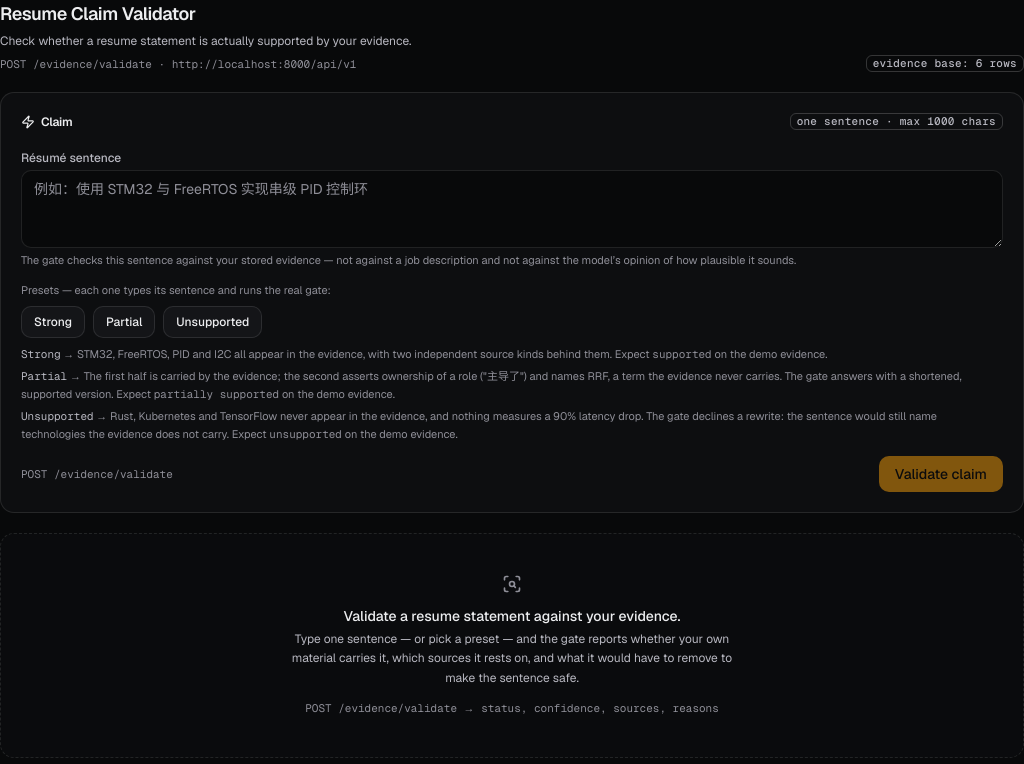
it: the claim validator page › explains what confidence is, in the exact sentence, on hover
Type "使用 STM32 与 FreeRTOS 实现串级 PID 控制环" into the text box labelled "Résumé sentence" at (512,209), box [21,170,1003,248]
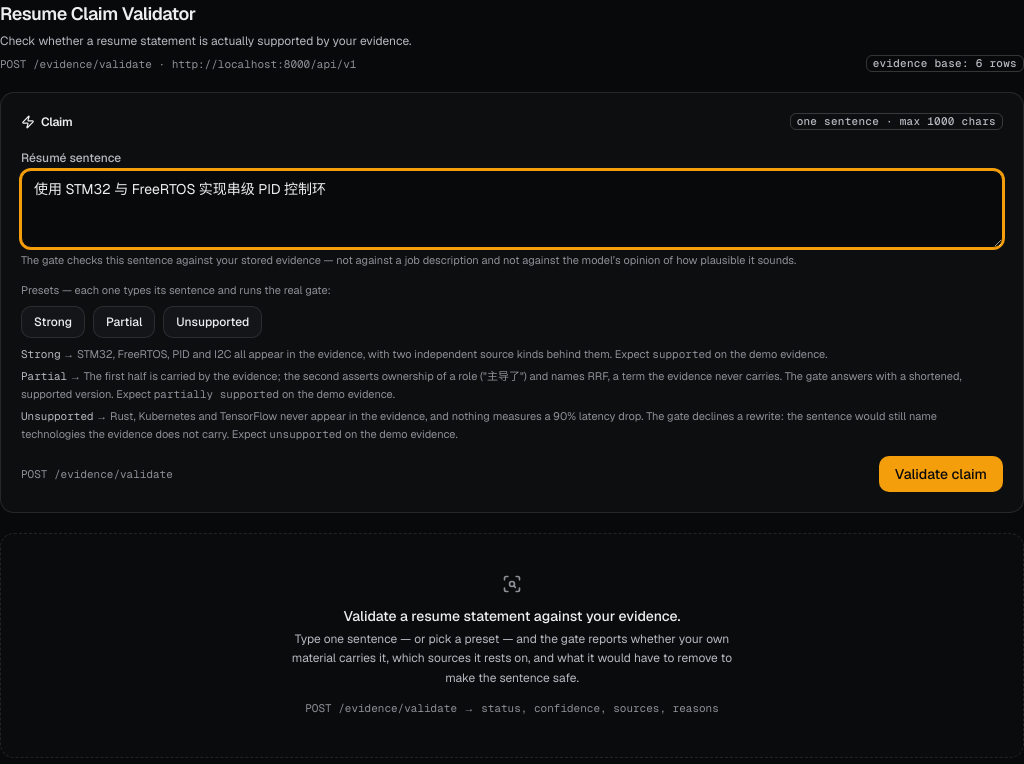
Click the button with test id "validate-claim" at (941,474), box [879,456,1003,492]
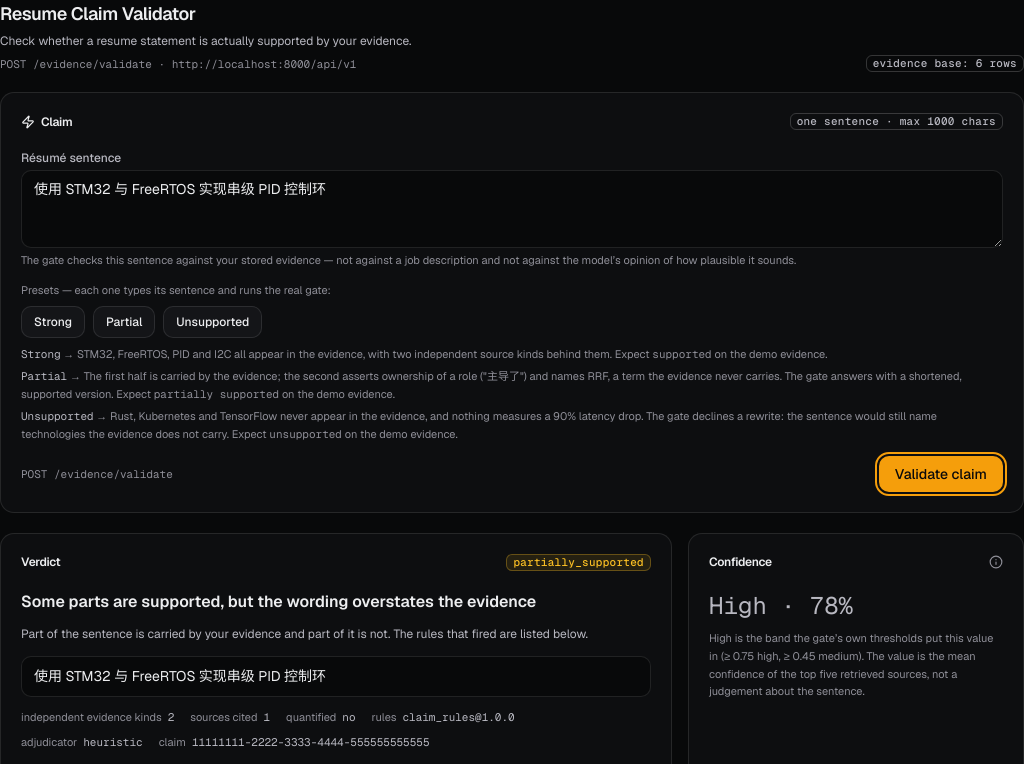
Hover over the button named "What confidence means" at (996,562), box [989,555,1003,569]
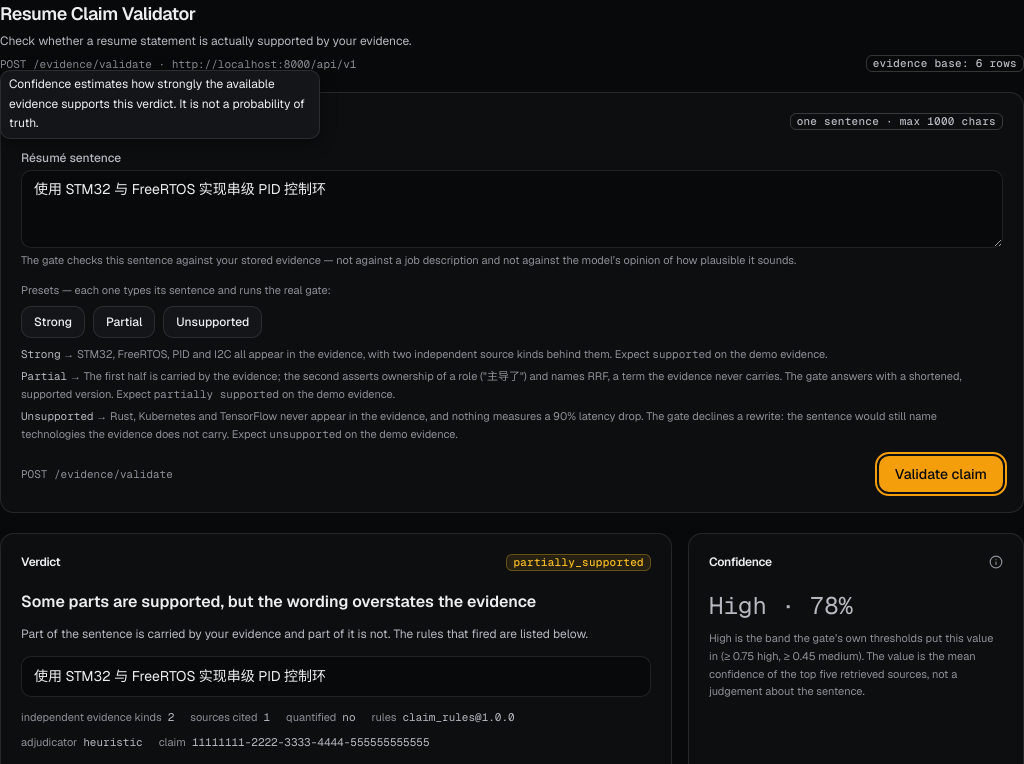
Expected: the tooltip shows "Confidence estimates how strongly the available evidence supports this verdict. It is not a probability of truth.", [9,76,305,131]
